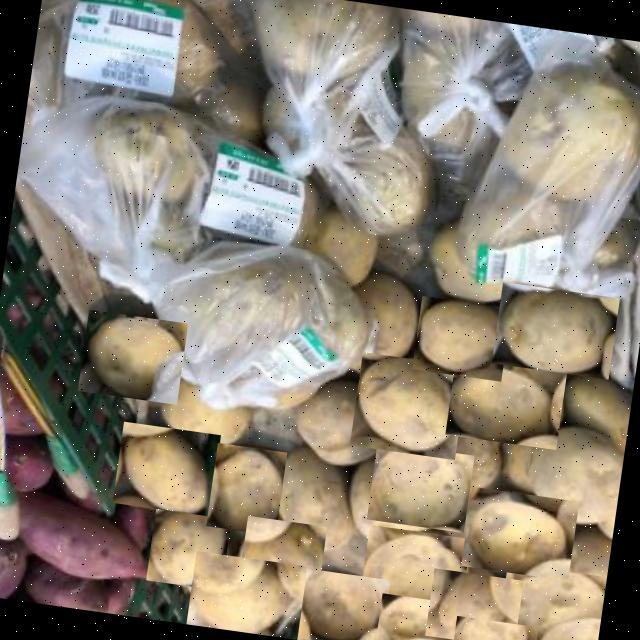Potato: (318, 268, 434, 398), (350, 352, 468, 460), (492, 282, 620, 380), (520, 418, 628, 530), (428, 214, 542, 315), (445, 357, 567, 450), (262, 440, 363, 552), (358, 525, 471, 624), (461, 487, 579, 581), (186, 551, 308, 640), (78, 310, 188, 405), (113, 422, 221, 516), (366, 442, 474, 533), (288, 376, 386, 466), (412, 296, 511, 382), (498, 563, 607, 640), (162, 367, 259, 452), (238, 516, 328, 602), (146, 503, 232, 591), (206, 443, 287, 536), (425, 568, 524, 640), (295, 568, 390, 640), (562, 366, 636, 451), (375, 593, 460, 640), (450, 616, 538, 640)
